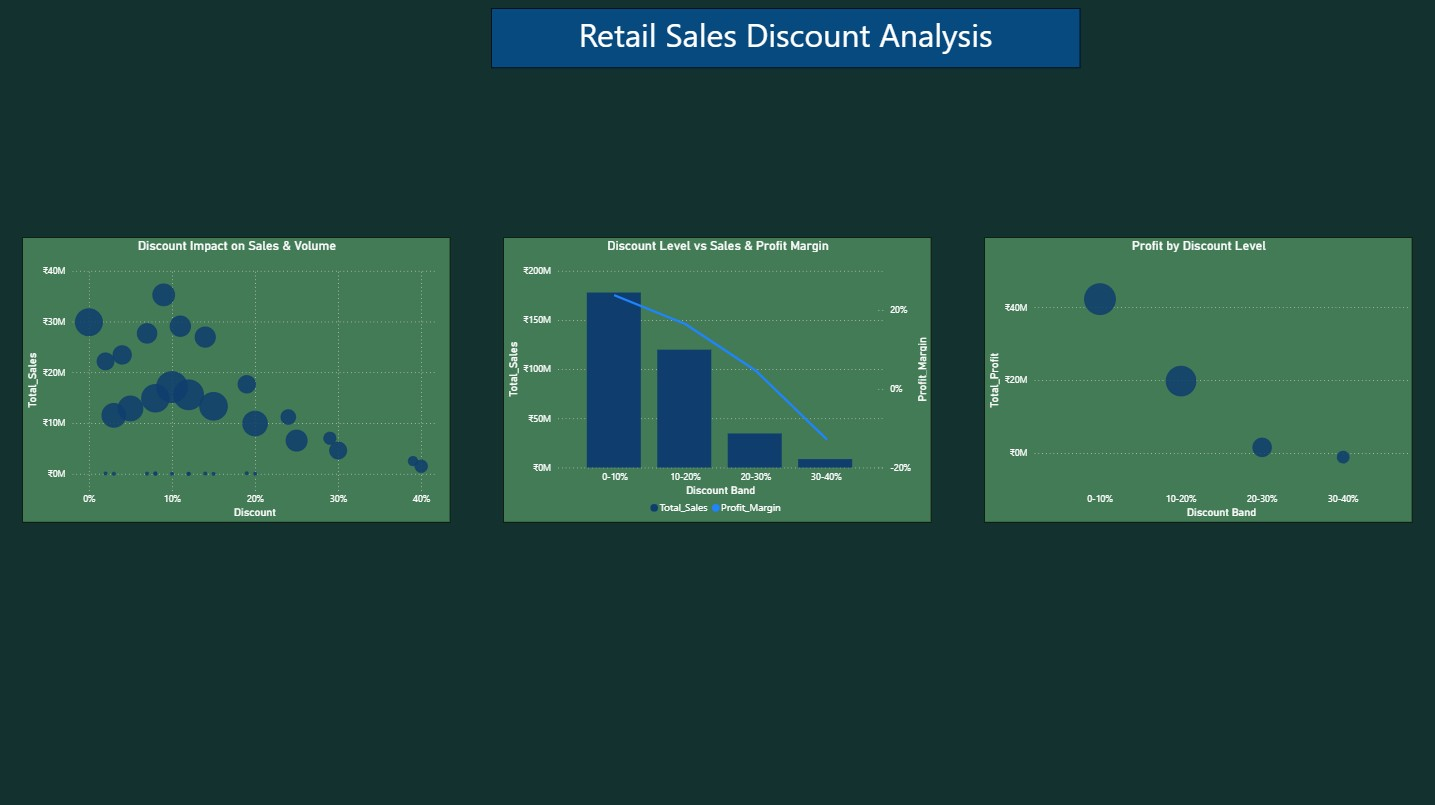

This screenshot's page, from the dashboard's own definition file:
{"tool":"powerbi","page":{"name":"Discount Analysis","canvas":[1920,1080],"ordinal":2},"visuals":[{"type":"textbox","box":[656,16,784,80],"z":0},{"type":"scatterChart","title":"Discount Impact on Sales & Volume","fields":{"Size":["Sales_Transactions.Total_Orders"],"X":["Sales_Transactions.Discount"],"Y":["Sales_Transactions.Total_Sales"]},"box":[32,320,570,380],"z":1000},{"type":"lineClusteredColumnComboChart","title":"Discount Level vs Sales & Profit Margin","fields":{"Category":["Sales_Transactions.Discount Band"],"Y":["Sales_Transactions.Total_Sales"],"Y2":["Sales_Transactions.Profit_Margin"]},"box":[672,320,570,380],"z":2000},{"type":"scatterChart","title":"Profit by Discount Level","fields":{"Size":["Sales_Transactions.Total_Orders"],"X":["Sales_Transactions.Discount Band"],"Y":["Sales_Transactions.Total_Profit"]},"box":[1312,320,570,380],"z":3000}]}

Visuals, with their boxes in screenshot pixels (x1, y1, x2, y2), scaled from the page's 1920x1080 canvas onto the 1435x805 screenshot:
textbox: 490,12,1076,72
"Discount Impact on Sales & Volume" scatterChart: 24,239,450,522
"Discount Level vs Sales & Profit Margin" lineClusteredColumnComboChart: 502,239,928,522
"Profit by Discount Level" scatterChart: 981,239,1407,522
